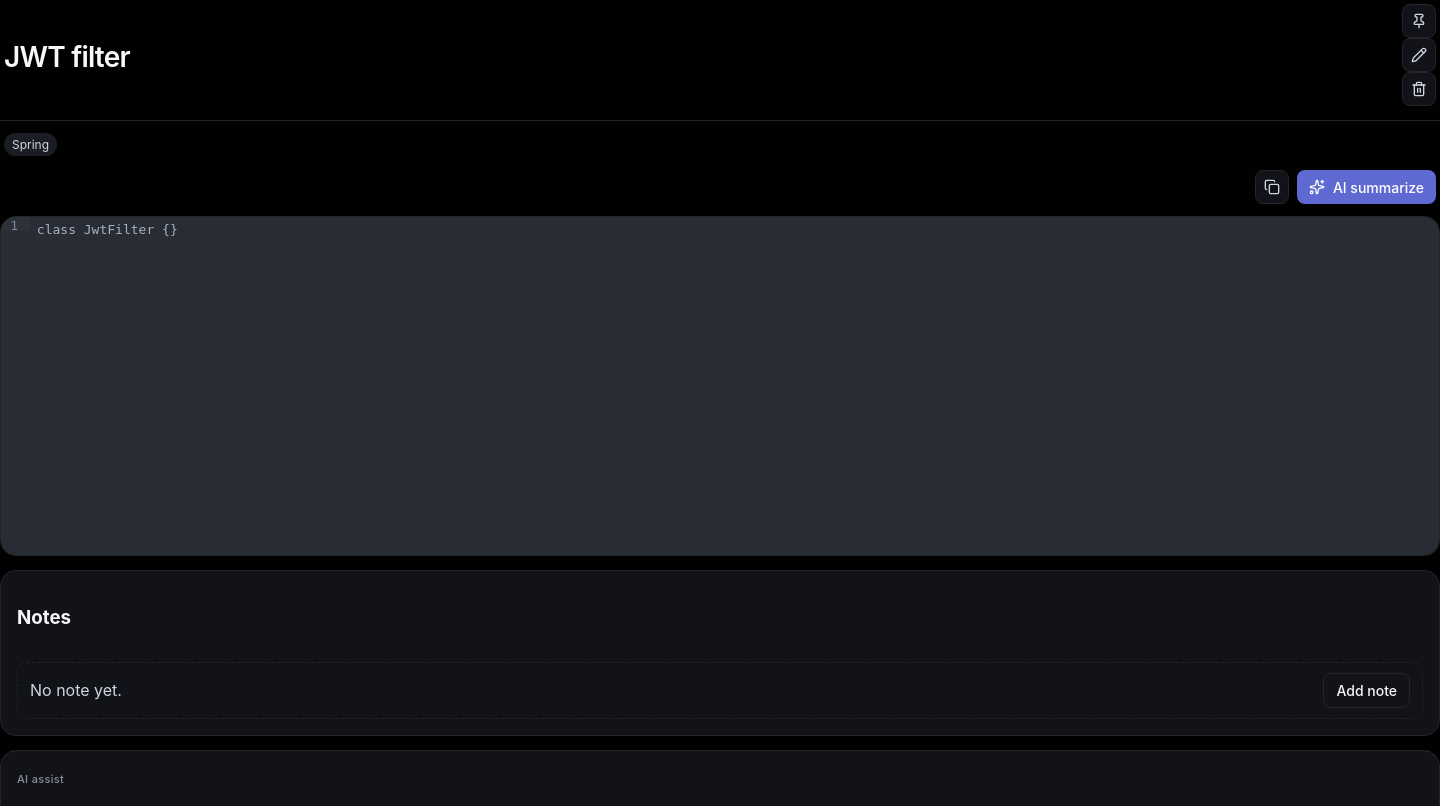
Test: SnippetDetailView notes › shows a compact add state before editing empty notes
The width and height of the screenshot is (1440, 806).
Check: the text "No note yet." is shown, box x1=30 y1=678 x2=122 y2=702
What coordinates should you click on to do the following:
click the button "Add note"
I would click on:
 (1367, 690)
Its box is x1=1323 y1=673 x2=1410 y2=708.
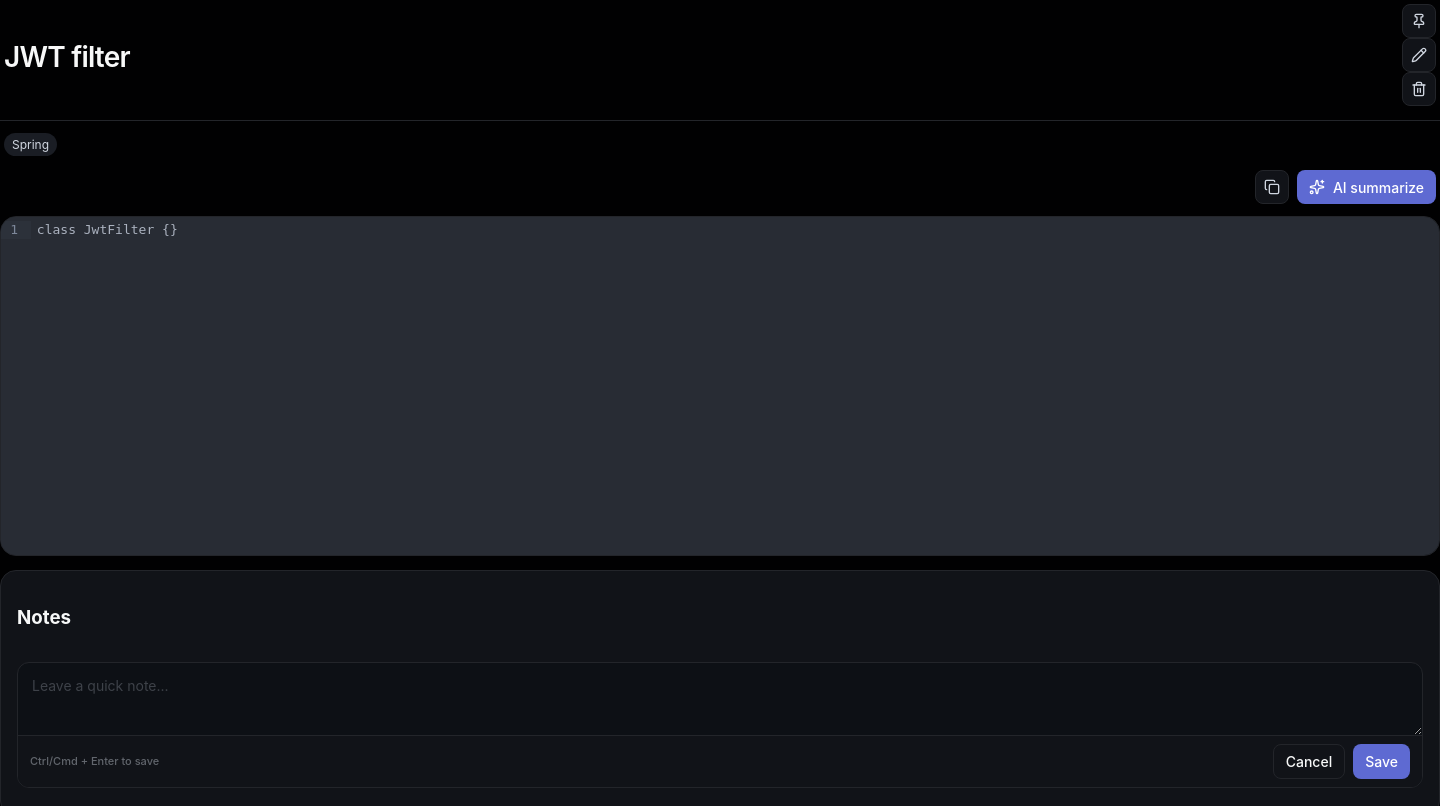
Check: the text box is shown, box x1=18 y1=663 x2=1422 y2=735
